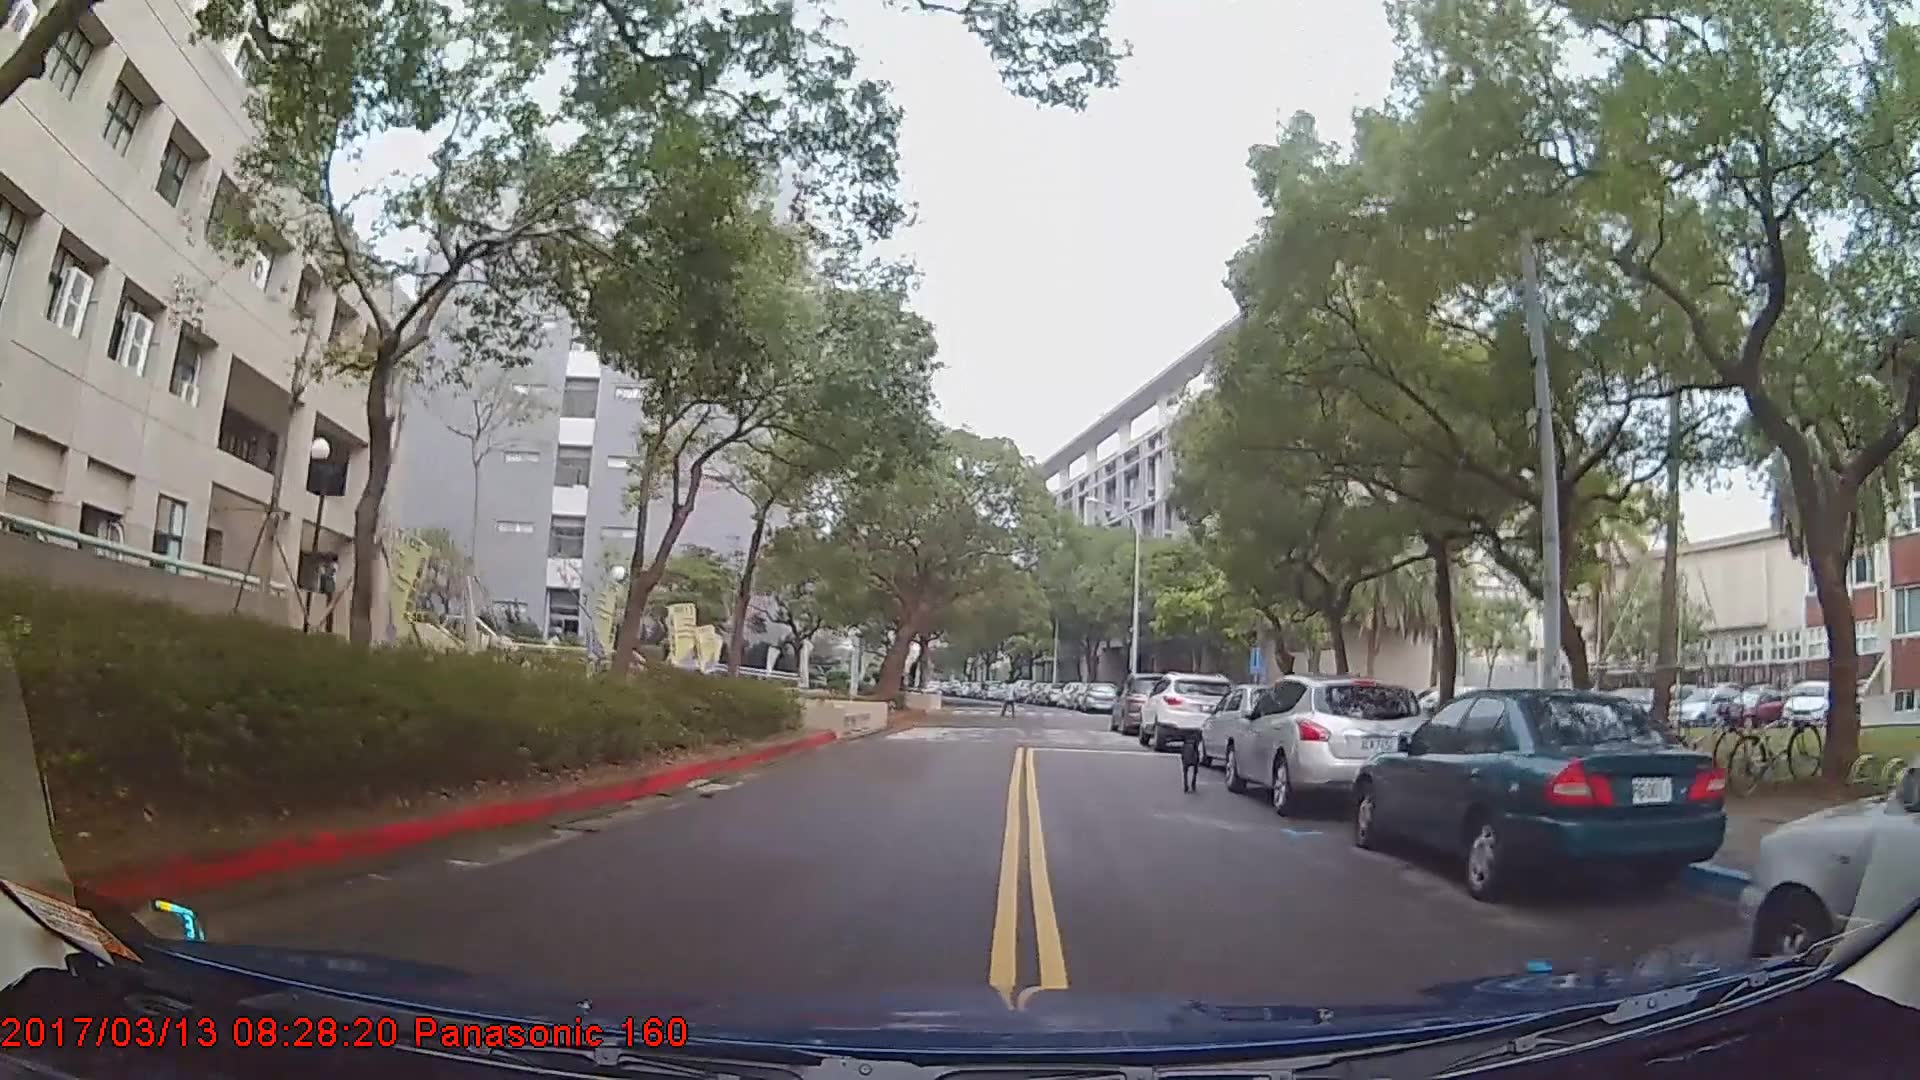pedestrian: (1000, 679, 1020, 719)
vehicle: (1351, 685, 1730, 903), (1739, 752, 1920, 990), (1223, 672, 1430, 814), (1193, 683, 1319, 776), (1139, 670, 1238, 750), (1111, 672, 1185, 736), (1080, 680, 1119, 713)
